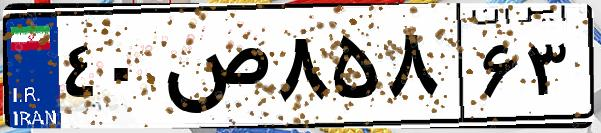0: (110, 28, 158, 98)
3: (525, 38, 570, 115)
4: (57, 26, 110, 100)
5: (330, 28, 385, 110)
6: (475, 38, 525, 113)
8: (270, 28, 330, 110), (385, 28, 445, 110)
ص: (158, 20, 270, 120)
